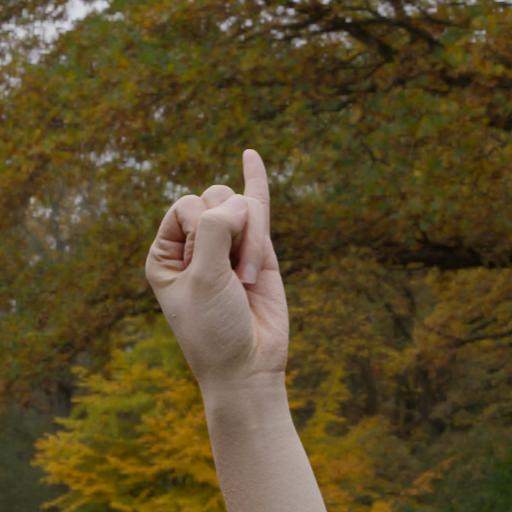I: (133, 139, 303, 400)
